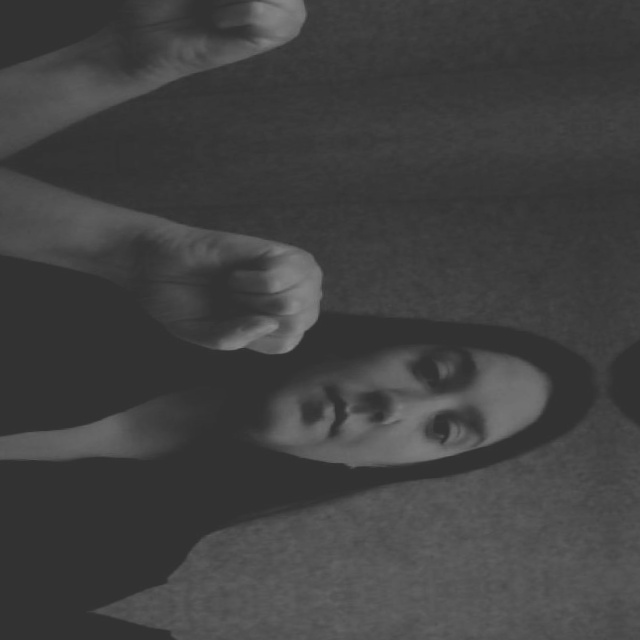Rock: (103, 0, 343, 70)
